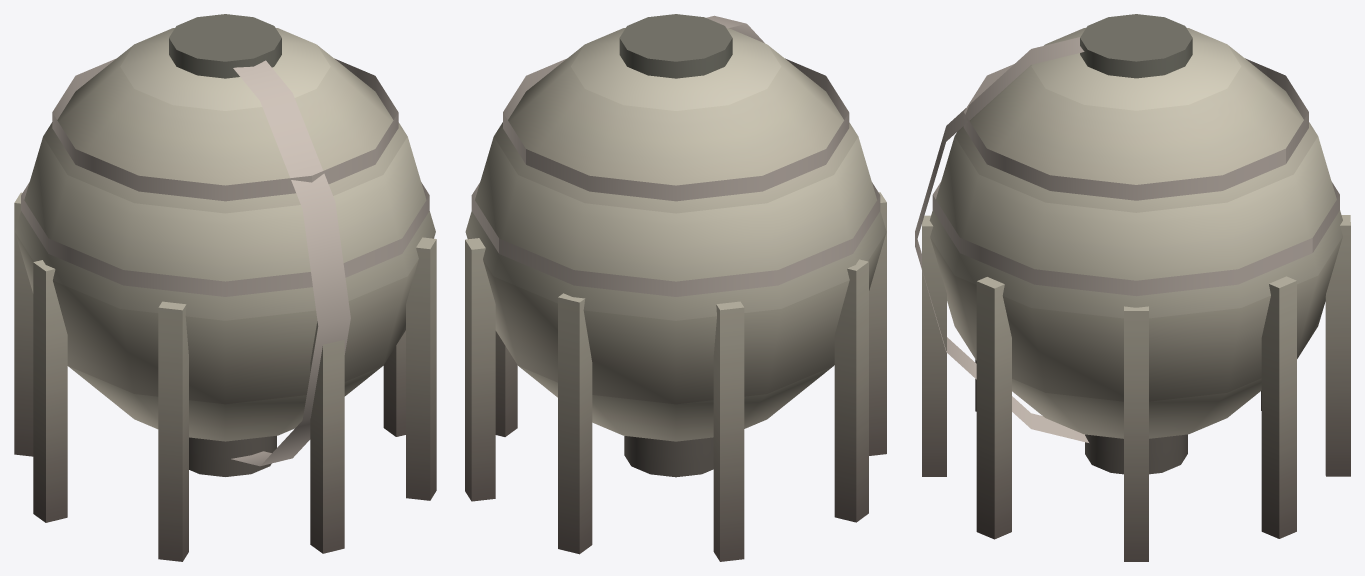
Rendered from SM_Factory_Silo_04.fbx.
The picture shows the model from 3 angles, left to right: view 1: azimuth 30°, elevation 25°; view 2: azimuth 150°, elevation 25°; view 3: azimuth 270°, elevation 25°; orthographic projection.
Parts seen in each view (by area): view 1: SM_Factory_Silo_04; view 2: SM_Factory_Silo_04; view 3: SM_Factory_Silo_04.
Part boxes in pixels (bbox=[...]): SM_Factory_Silo_04: bbox=[14, 14, 436, 561]; SM_Factory_Silo_04: bbox=[465, 14, 886, 561]; SM_Factory_Silo_04: bbox=[915, 14, 1350, 561].
Bounding box in the file's own units: 3.11 × 3.47 × 3.16.
